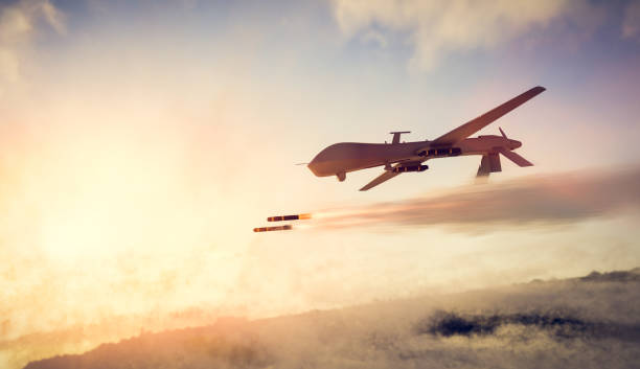military drone: (294, 85, 547, 191)
